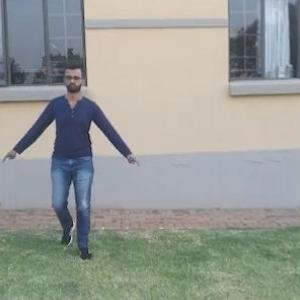land: (1, 63, 138, 261)
